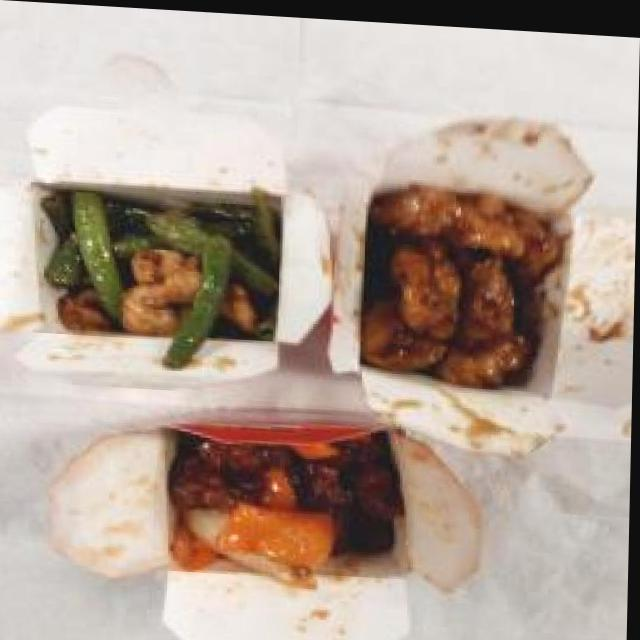Beijing Beef: (160, 410, 418, 590)
String Bean Chicken Breast: (39, 177, 297, 364)
The Original Orange Chicken: (349, 174, 572, 392)
